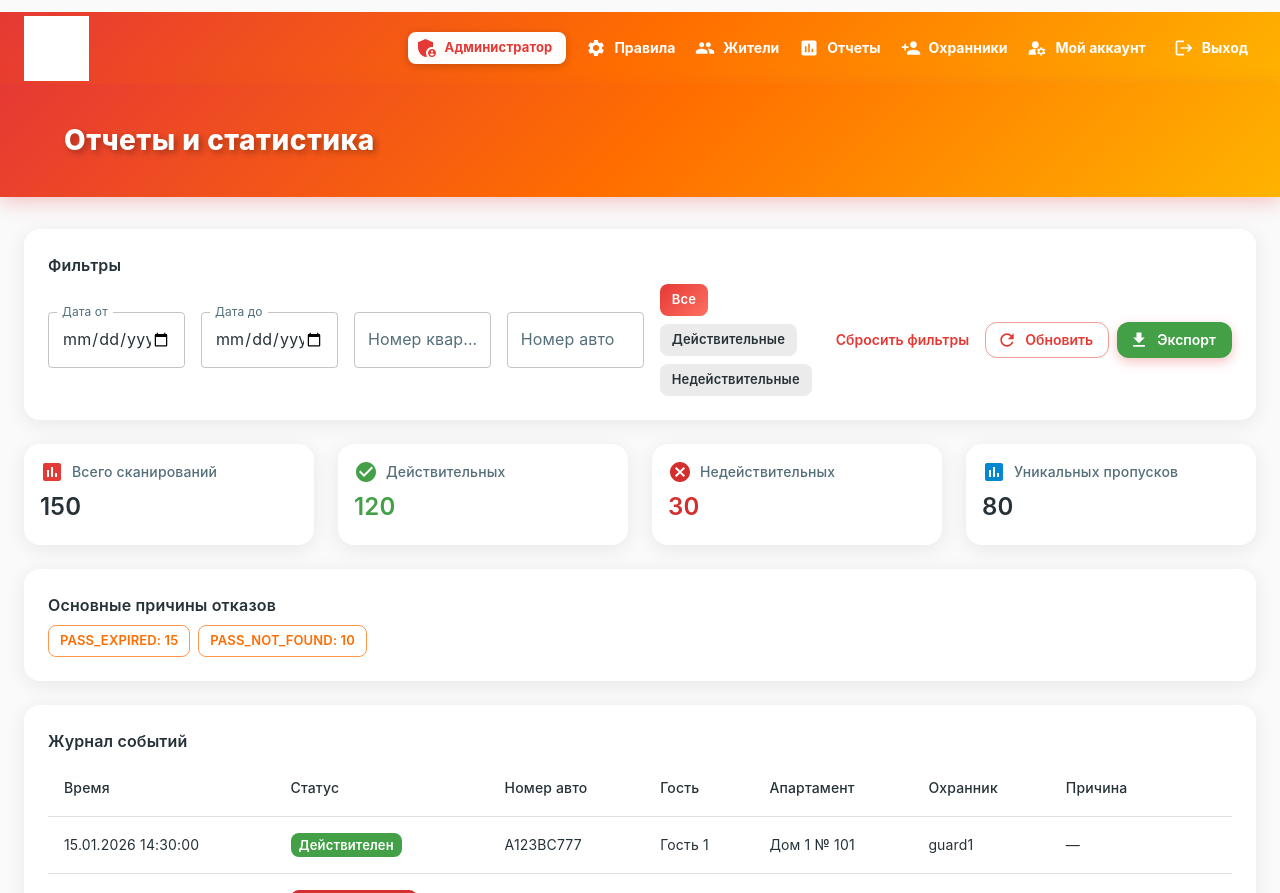
it: AdminReportsPage › shows export error on failure
The image size is (1280, 893).
Expected: the heading "150" is shown, left=40, top=492, right=81, bottom=521
Click the button "Экспорт".
click(1175, 340)  # box left=1117, top=322, right=1232, bottom=358
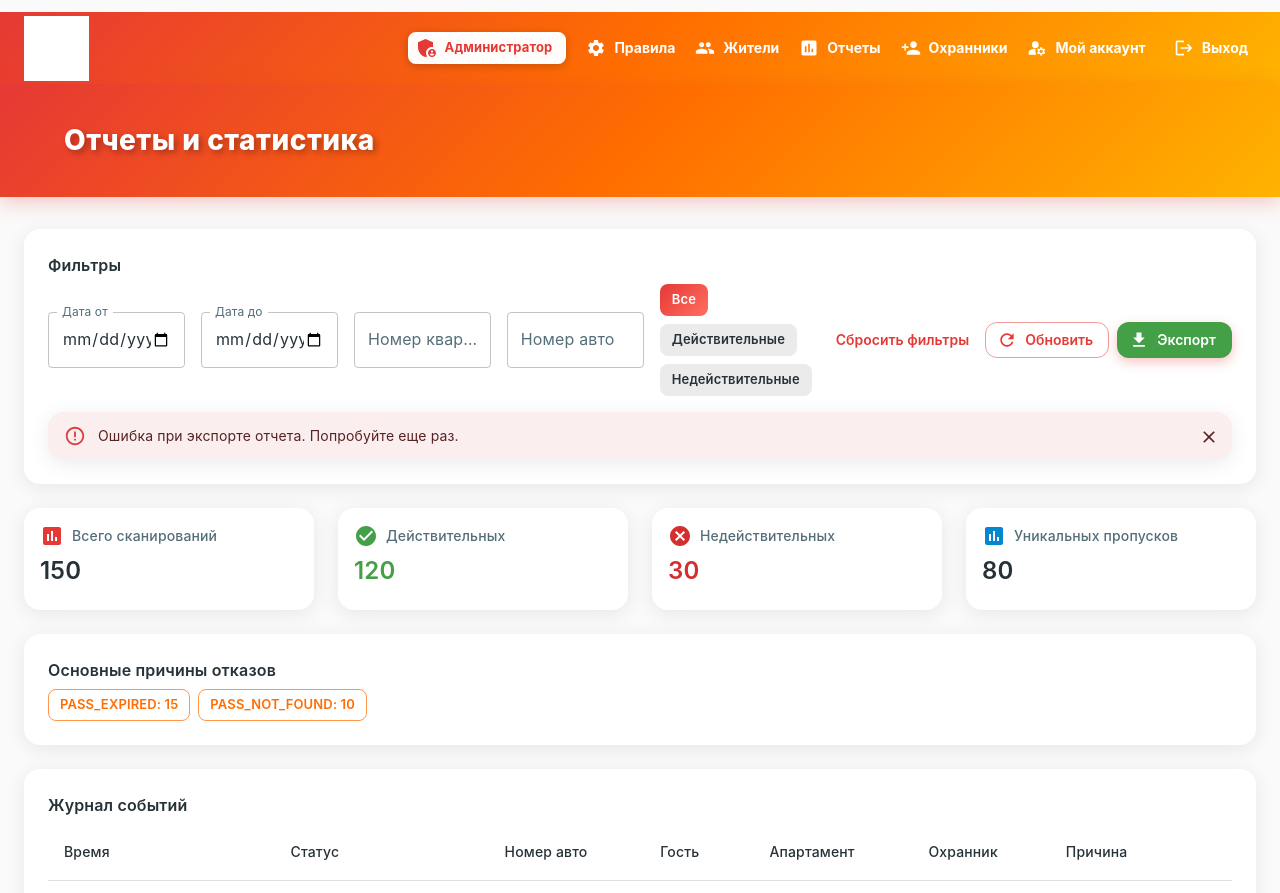
Result: the text "Ошибка при экспорте отчета. Попробуйте еще раз." is shown at left=98, top=427, right=459, bottom=444
